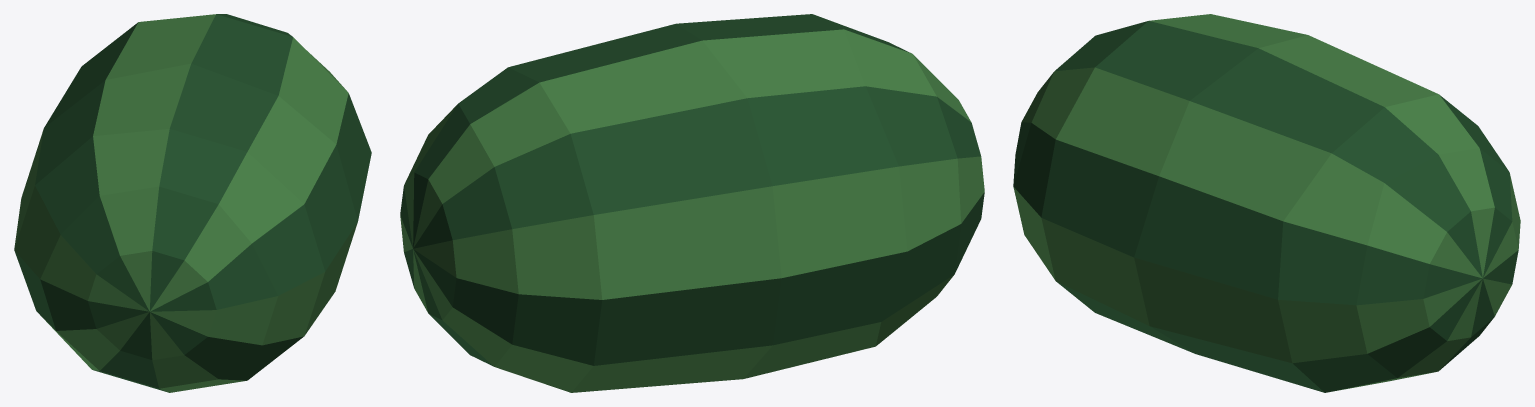
Rendered from Watermalon_Raw.fbx.
3 views of the same model, side by side, from view 1: azimuth 30°, elevation 25°; view 2: azimuth 150°, elevation 25°; view 3: azimuth 270°, elevation 25° (orthographic). The views are drawn at different scales.
Visible parts, largest first — view 1: SM_Watermalon_Raw; view 2: SM_Watermalon_Raw; view 3: SM_Watermalon_Raw.
Part boxes in pixels (left/top/right/bottom): SM_Watermalon_Raw: left=14, top=14, right=371, bottom=392; SM_Watermalon_Raw: left=400, top=14, right=984, bottom=392; SM_Watermalon_Raw: left=1013, top=14, right=1520, bottom=392.
Size of the model in its own units: 24.18 by 16.93 by 25.46.
1 material, 1 textured.
